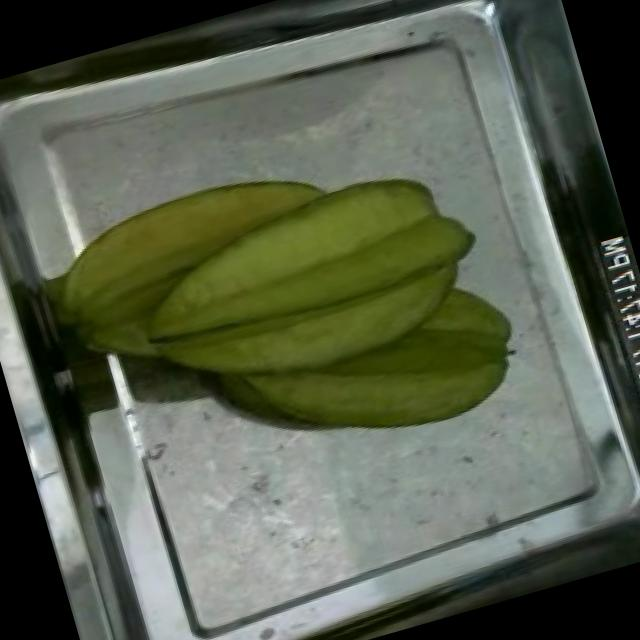fruit: (89, 105, 525, 488)
